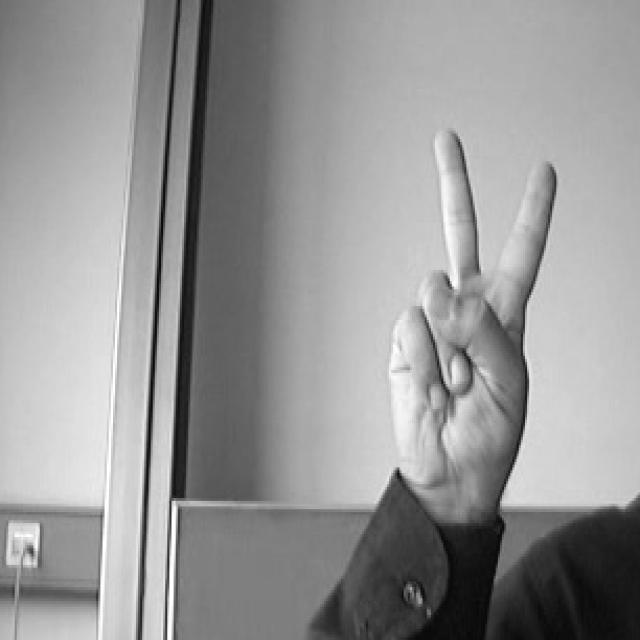V: (347, 99, 596, 523)
